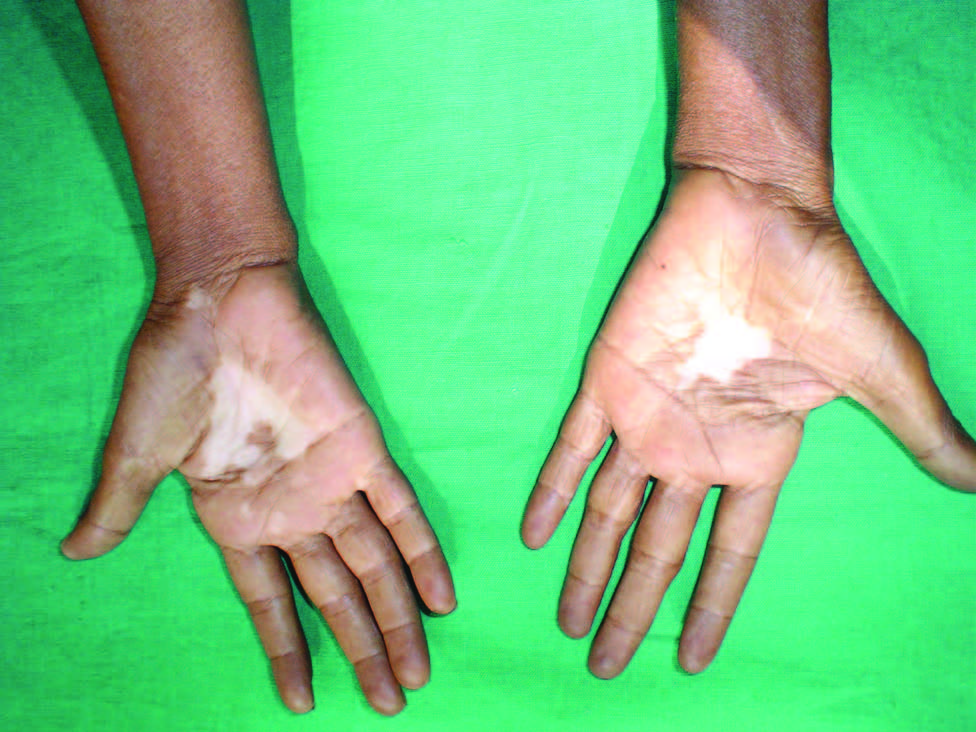Diseased: (139, 231, 457, 588), (588, 230, 839, 548)
